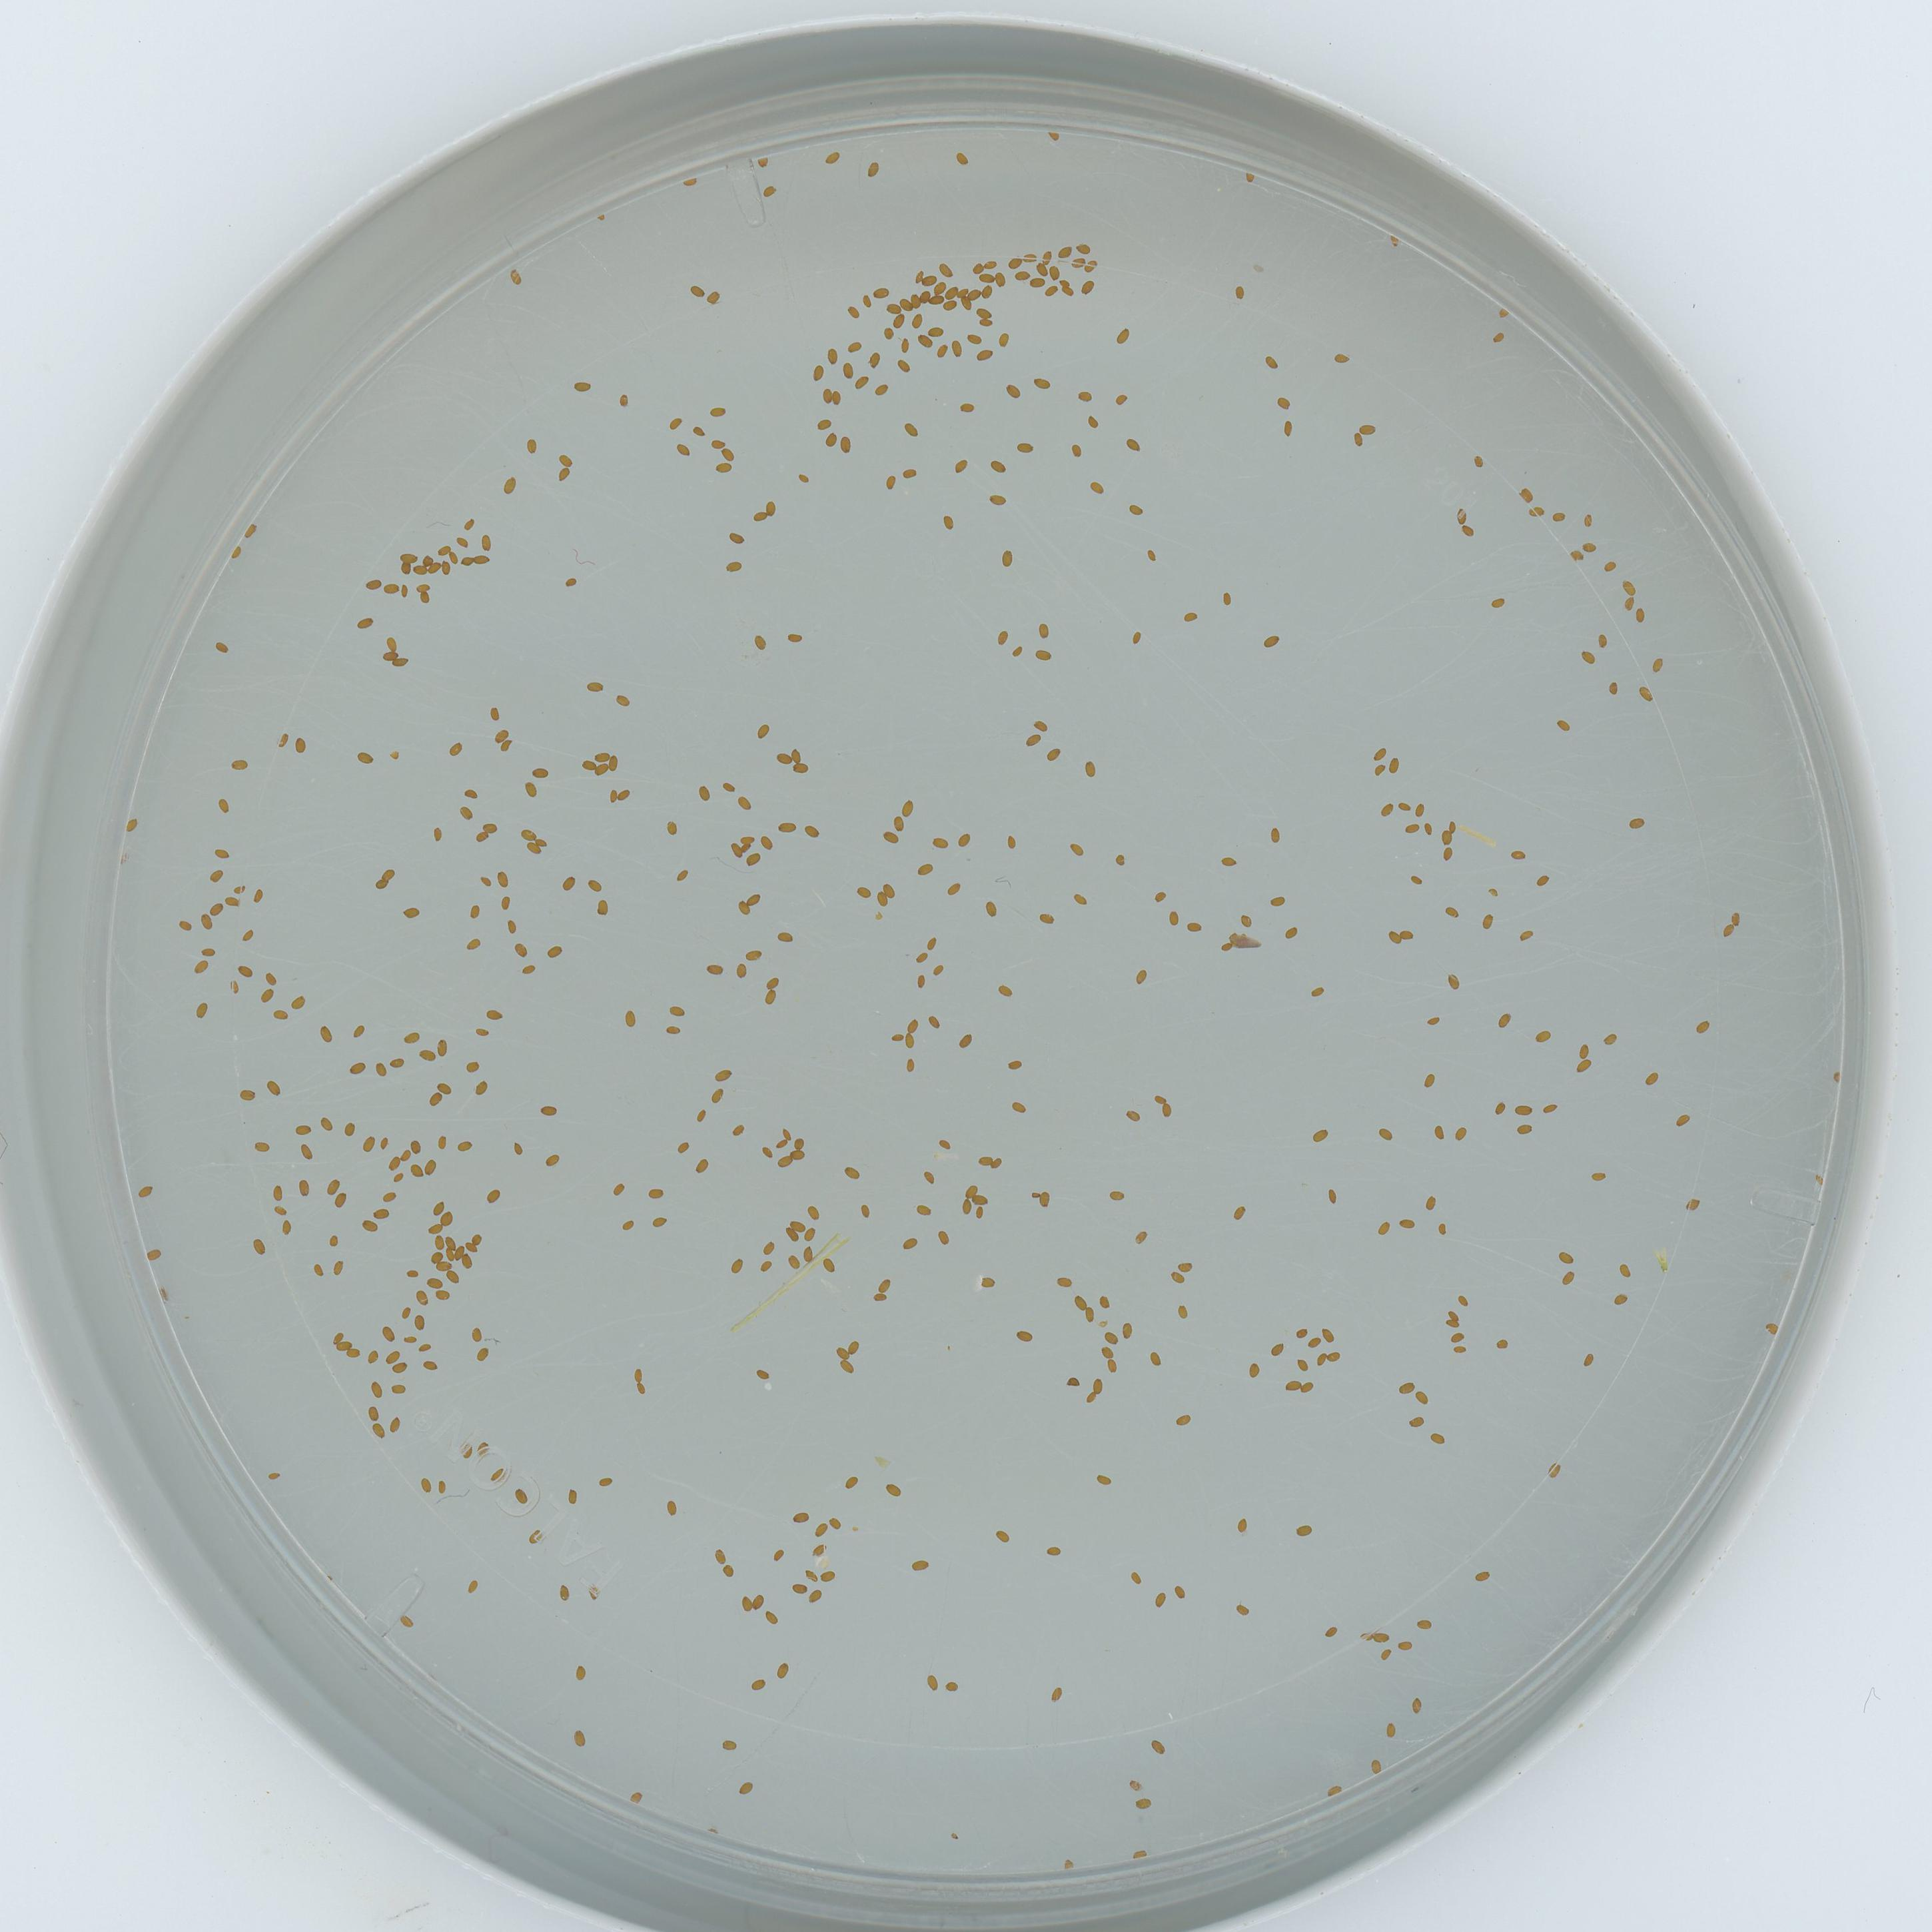seed: (262, 1076, 283, 1095), (1116, 1320, 1136, 1341), (936, 1226, 954, 1249), (295, 1141, 317, 1159), (518, 824, 538, 842), (872, 281, 892, 299), (478, 534, 497, 552), (695, 784, 715, 801), (494, 870, 513, 888), (586, 678, 605, 695), (954, 150, 971, 170), (801, 823, 821, 840), (294, 1178, 313, 1196), (433, 1039, 453, 1056), (709, 1085, 727, 1104), (315, 1026, 334, 1044), (1079, 759, 1099, 777), (1449, 508, 1468, 525), (1261, 632, 1281, 649), (1030, 373, 1049, 391), (987, 490, 1007, 508), (1044, 127, 1063, 145), (927, 320, 945, 338), (559, 876, 577, 893), (522, 780, 540, 798), (752, 633, 770, 651), (356, 748, 373, 766), (212, 639, 230, 656), (777, 927, 794, 945), (901, 800, 918, 817), (481, 817, 499, 835), (840, 363, 858, 380), (902, 419, 920, 437), (867, 350, 885, 368), (725, 557, 743, 575), (846, 338, 863, 356), (290, 736, 308, 754), (810, 363, 828, 380), (837, 435, 855, 453), (501, 476, 518, 494), (755, 722, 773, 740), (366, 1378, 384, 1396), (349, 1058, 366, 1076), (485, 1185, 502, 1203), (379, 1323, 396, 1341), (364, 1403, 382, 1421), (715, 1063, 732, 1081), (387, 1051, 405, 1069), (621, 1008, 639, 1026), (359, 1134, 377, 1152), (421, 1159, 439, 1177), (846, 1162, 863, 1180), (821, 1254, 839, 1272), (1016, 439, 1033, 456), (982, 899, 1000, 916), (989, 456, 1007, 474), (1518, 485, 1536, 502), (1479, 911, 1497, 929), (1293, 1520, 1311, 1537), (1398, 1378, 1415, 1396), (1557, 1247, 1575, 1265), (1398, 1214, 1415, 1231), (1008, 1097, 1026, 1115), (957, 1031, 975, 1049), (272, 732, 290, 750), (531, 764, 550, 780), (464, 934, 483, 950), (418, 1046, 437, 1062), (793, 1509, 812, 1525), (402, 1026, 421, 1042), (414, 1286, 430, 1306), (288, 993, 308, 1008), (885, 1481, 904, 1497), (975, 347, 994, 363), (1281, 924, 1300, 939), (955, 400, 975, 416), (1445, 973, 1461, 993), (1150, 1737, 1166, 1757), (801, 1244, 816, 1265), (1026, 274, 1047, 288), (961, 1196, 975, 1217), (931, 837, 948, 853), (249, 888, 265, 906), (212, 798, 230, 814), (502, 918, 520, 934), (586, 878, 603, 893), (402, 904, 419, 920), (789, 747, 805, 764), (734, 901, 752, 916), (909, 313, 927, 329), (223, 893, 241, 909), (196, 913, 214, 929), (890, 816, 908, 832), (465, 902, 483, 918), (573, 377, 591, 393), (495, 895, 513, 911), (747, 892, 764, 908), (594, 899, 610, 916), (230, 754, 246, 771), (709, 435, 727, 451), (557, 451, 575, 467), (207, 901, 225, 916), (736, 796, 754, 812), (729, 529, 747, 545), (237, 925, 255, 941), (936, 262, 954, 278), (508, 267, 524, 285), (778, 819, 796, 835), (207, 869, 225, 885), (939, 513, 955, 531), (775, 750, 793, 766), (428, 826, 446, 842), (948, 338, 964, 356), (511, 941, 529, 957), (474, 874, 492, 890), (667, 414, 685, 430), (867, 159, 883, 177), (883, 474, 899, 492), (715, 458, 732, 474), (916, 862, 934, 878), (793, 761, 810, 777), (200, 943, 218, 959), (901, 1233, 918, 1249), (911, 1557, 929, 1573), (556, 1583, 573, 1599), (663, 1500, 681, 1516), (294, 1120, 311, 1136), (803, 1226, 821, 1242), (920, 1168, 938, 1184), (464, 1058, 481, 1074), (253, 1136, 271, 1152), (389, 1380, 407, 1396), (370, 1422, 386, 1440), (540, 1100, 557, 1116), (386, 1415, 402, 1433), (847, 1338, 863, 1355), (372, 1203, 389, 1219), (409, 1136, 426, 1152), (511, 1488, 529, 1504), (324, 1231, 341, 1247), (380, 1187, 398, 1203), (775, 1661, 791, 1679), (669, 1001, 686, 1017), (249, 1238, 267, 1254), (278, 1219, 294, 1237), (322, 1178, 340, 1194), (258, 985, 276, 1001), (876, 1276, 893, 1292), (665, 1021, 683, 1037), (331, 1192, 349, 1208), (361, 1217, 379, 1233), (812, 1522, 830, 1537), (651, 1212, 669, 1228), (472, 1079, 490, 1095), (421, 1357, 439, 1373), (428, 1201, 446, 1217), (694, 1155, 709, 1173), (269, 1184, 287, 1200), (571, 1665, 589, 1681), (839, 1359, 856, 1375), (803, 1566, 821, 1582), (329, 1260, 347, 1276), (786, 1226, 803, 1242), (674, 1139, 692, 1155), (433, 1288, 451, 1304), (487, 1465, 504, 1481), (1012, 267, 1030, 283), (1033, 648, 1051, 663), (994, 630, 1012, 646), (1033, 623, 1051, 639), (1123, 435, 1141, 451), (1619, 579, 1637, 594), (998, 550, 1016, 566), (1580, 648, 1598, 663), (1003, 382, 1021, 398), (1261, 354, 1279, 370), (1070, 892, 1088, 908), (1067, 255, 1085, 271), (1594, 633, 1612, 649), (1403, 823, 1421, 839), (1024, 732, 1040, 750), (1042, 747, 1060, 763), (1065, 442, 1083, 458), (1605, 679, 1622, 695), (1001, 835, 1019, 851), (1113, 327, 1131, 343), (1628, 814, 1645, 830), (1633, 607, 1651, 623), (1637, 685, 1654, 701), (1514, 1100, 1532, 1116), (1053, 1272, 1070, 1288), (1514, 1120, 1532, 1136), (1320, 1327, 1338, 1343), (1244, 1362, 1261, 1378), (1576, 1044, 1594, 1060), (1421, 1194, 1438, 1210), (1474, 1568, 1491, 1583), (1644, 1069, 1661, 1085), (1576, 1056, 1594, 1072), (1005, 1054, 1023, 1070), (1495, 1012, 1513, 1028), (1173, 1302, 1191, 1318), (1150, 1592, 1168, 1608), (1283, 1376, 1300, 1392), (1108, 1185, 1125, 1201), (1122, 1106, 1139, 1122), (1408, 1414, 1426, 1430), (1373, 1629, 1391, 1645), (1614, 1290, 1629, 1307), (1601, 1028, 1619, 1044), (1534, 1026, 1552, 1042), (1375, 1219, 1392, 1235), (1382, 1721, 1399, 1737), (1230, 1203, 1247, 1219), (1293, 1355, 1311, 1371), (1412, 1389, 1430, 1405), (1311, 1125, 1329, 1141), (1016, 1325, 1033, 1341), (1173, 1410, 1191, 1426), (1355, 1629, 1373, 1645), (1127, 1778, 1145, 1794), (587, 1583, 605, 1599), (460, 1254, 478, 1270), (1810, 1173, 1828, 1189), (915, 334, 934, 349), (545, 943, 564, 957), (458, 807, 478, 821), (704, 961, 724, 975), (787, 1219, 807, 1233), (1488, 596, 1507, 610), (364, 575, 380, 591), (692, 423, 708, 439), (874, 380, 890, 396), (706, 287, 722, 303), (690, 281, 706, 297), (663, 821, 679, 837), (212, 846, 228, 862), (826, 349, 842, 364), (594, 748, 610, 764), (462, 786, 478, 801), (895, 359, 911, 375), (524, 437, 540, 453), (382, 580, 398, 596), (947, 881, 962, 897), (855, 373, 870, 389), (729, 842, 745, 858), (874, 892, 890, 908), (883, 883, 899, 899), (676, 442, 692, 458), (817, 416, 833, 432), (787, 630, 803, 646), (448, 741, 464, 757), (757, 154, 773, 170), (823, 432, 839, 448), (899, 338, 915, 354), (950, 458, 966, 474), (607, 755, 623, 771), (745, 853, 761, 869), (460, 515, 476, 531), (241, 524, 257, 540), (391, 1361, 407, 1376), (262, 970, 278, 985), (916, 1201, 932, 1217), (722, 1737, 738, 1753), (410, 1315, 426, 1330), (310, 1261, 326, 1277), (456, 1136, 472, 1152), (904, 1016, 920, 1031), (396, 1302, 412, 1318), (844, 1474, 860, 1490), (694, 1106, 709, 1122), (858, 1201, 874, 1217), (755, 1366, 771, 1382), (373, 1060, 389, 1076), (416, 1477, 432, 1493), (318, 1115, 334, 1131), (713, 1548, 729, 1564), (564, 1488, 580, 1504), (193, 1001, 209, 1017), (807, 1203, 823, 1219), (810, 1541, 826, 1557), (426, 1090, 442, 1106), (384, 1346, 400, 1362), (648, 1184, 663, 1200), (771, 1546, 787, 1562), (350, 1021, 366, 1037), (364, 1348, 380, 1364), (433, 1134, 449, 1150), (761, 1238, 777, 1254), (809, 1587, 824, 1603), (902, 1056, 918, 1072), (437, 1079, 453, 1095), (598, 1474, 614, 1490), (729, 1256, 745, 1272), (936, 1136, 952, 1152), (458, 1442, 474, 1458), (375, 1134, 391, 1150), (239, 1085, 255, 1100), (943, 1677, 959, 1693), (426, 1219, 442, 1235), (786, 1253, 801, 1269), (752, 1677, 768, 1693), (633, 1380, 649, 1396), (446, 1269, 462, 1284), (465, 1578, 481, 1594), (821, 1568, 837, 1583), (763, 1608, 778, 1624), (398, 1146, 414, 1162), (571, 1730, 587, 1746), (510, 1139, 525, 1155), (734, 962, 750, 978), (630, 1366, 646, 1382), (1088, 479, 1104, 495), (1412, 801, 1428, 817), (1150, 890, 1166, 906), (1056, 242, 1072, 258), (1076, 387, 1092, 403), (1384, 927, 1399, 943), (1067, 842, 1083, 858), (1582, 538, 1598, 554), (1444, 904, 1460, 920), (1378, 803, 1394, 819), (1274, 395, 1290, 410), (966, 331, 982, 347), (993, 272, 1008, 288), (996, 333, 1012, 349), (1269, 893, 1284, 909), (1440, 846, 1456, 862), (1279, 419, 1295, 435), (1552, 508, 1568, 524), (1185, 918, 1201, 934), (1460, 522, 1476, 538), (1568, 547, 1583, 563), (1555, 718, 1571, 734), (1518, 925, 1534, 941), (1127, 501, 1143, 517), (980, 283, 996, 299), (1267, 826, 1283, 842), (1490, 329, 1506, 345), (1008, 644, 1024, 660), (1230, 283, 1246, 299), (1396, 798, 1412, 814), (1217, 591, 1233, 607), (1164, 909, 1180, 925), (1350, 432, 1366, 448), (1033, 262, 1049, 278), (1619, 596, 1635, 612), (1088, 1376, 1104, 1392), (1269, 1341, 1284, 1357), (1591, 1168, 1606, 1184), (996, 982, 1012, 998), (1323, 1187, 1339, 1203), (1233, 1603, 1249, 1619), (1127, 1569, 1143, 1585), (1453, 1125, 1468, 1141), (1422, 1070, 1438, 1086), (1233, 1516, 1249, 1532), (1695, 1017, 1711, 1033), (1495, 1336, 1511, 1352), (1293, 1323, 1309, 1339), (1095, 1293, 1111, 1309), (1617, 1261, 1633, 1277), (1171, 1583, 1187, 1599), (1546, 1461, 1562, 1477), (980, 1272, 996, 1288), (1146, 1350, 1162, 1366), (1178, 1260, 1194, 1276), (1408, 1697, 1424, 1713), (1431, 1123, 1447, 1139), (1132, 1228, 1148, 1244), (1430, 1430, 1445, 1445), (1541, 1099, 1557, 1115), (1376, 1125, 1392, 1141), (1134, 1794, 1150, 1810), (1368, 1757, 1384, 1773), (1104, 1330, 1120, 1346), (1493, 1099, 1509, 1115), (989, 1154, 1005, 1169), (235, 962, 251, 978), (226, 980, 242, 996), (474, 1442, 490, 1458), (529, 1529, 545, 1545), (1327, 1782, 1343, 1798), (913, 269, 929, 285), (1762, 1322, 1778, 1338), (1242, 168, 1258, 184), (901, 465, 918, 479), (356, 616, 373, 630), (674, 869, 692, 883), (720, 780, 738, 794), (380, 867, 398, 881), (492, 729, 510, 743), (382, 635, 400, 649), (718, 446, 736, 460), (372, 878, 389, 892), (862, 292, 876, 310), (846, 304, 863, 318), (472, 552, 490, 566), (230, 543, 244, 561), (485, 1007, 502, 1021), (341, 1122, 359, 1136), (403, 1265, 421, 1279), (398, 1614, 416, 1628), (791, 1582, 809, 1596), (145, 1246, 163, 1260), (793, 1136, 810, 1150), (628, 1790, 646, 1805), (1332, 350, 1350, 364), (1083, 414, 1100, 428), (1407, 874, 1424, 888), (1237, 913, 1254, 927), (1180, 609, 1198, 623), (1578, 513, 1596, 527), (1529, 502, 1546, 517), (1219, 855, 1237, 869), (1042, 283, 1060, 297), (1217, 939, 1235, 954), (1072, 1293, 1086, 1311), (993, 1529, 1010, 1543), (971, 1192, 989, 1207), (1311, 1352, 1329, 1366), (973, 1207, 987, 1224), (1168, 1270, 1185, 1284), (1083, 1306, 1097, 1323), (1037, 1191, 1051, 1208), (1083, 1389, 1097, 1407), (453, 1244, 467, 1261), (899, 294, 911, 313), (175, 918, 191, 932), (883, 832, 899, 846), (856, 885, 872, 899), (941, 299, 957, 313), (487, 706, 502, 720), (924, 934, 939, 948), (556, 467, 571, 481), (892, 313, 908, 327), (709, 405, 725, 419), (759, 835, 775, 849), (754, 510, 770, 524), (826, 150, 842, 165), (617, 786, 632, 801), (472, 832, 488, 846), (616, 694, 632, 708), (605, 787, 619, 803), (446, 548, 460, 564), (881, 327, 897, 341), (796, 471, 812, 485), (764, 501, 780, 515), (616, 393, 632, 407), (934, 343, 948, 359), (435, 541, 451, 556), (524, 840, 540, 855), (396, 561, 412, 575), (418, 591, 433, 605), (458, 554, 474, 568), (957, 833, 971, 849), (752, 1592, 766, 1608), (766, 973, 782, 987), (407, 1162, 423, 1177), (621, 1217, 637, 1231), (426, 1274, 442, 1288), (740, 1596, 754, 1612), (272, 1007, 288, 1021), (441, 1212, 456, 1226), (925, 1674, 939, 1690), (828, 1514, 842, 1530), (389, 1169, 405, 1184), (545, 1152, 561, 1166), (763, 989, 778, 1003), (888, 1028, 904, 1042), (138, 1182, 154, 1196), (759, 1145, 775, 1159), (740, 1780, 755, 1794), (474, 1346, 490, 1361), (902, 1033, 918, 1047), (384, 1155, 400, 1169), (469, 1327, 485, 1341), (731, 1122, 747, 1136), (435, 1479, 449, 1495), (835, 1345, 849, 1361), (872, 1292, 888, 1306), (272, 1203, 288, 1217), (775, 1138, 791, 1152), (610, 1180, 626, 1194), (720, 1564, 736, 1578), (759, 1258, 775, 1272), (777, 1155, 793, 1169), (329, 1332, 343, 1348), (416, 1339, 432, 1353), (430, 1235, 446, 1249), (1536, 874, 1552, 888), (1387, 759, 1401, 775), (1603, 559, 1619, 573), (1007, 255, 1023, 269), (971, 260, 985, 276), (1113, 391, 1129, 405), (1401, 925, 1415, 941), (1371, 747, 1385, 763), (1359, 421, 1375, 435), (1509, 847, 1525, 862), (1031, 717, 1047, 731), (1079, 280, 1095, 294), (1421, 821, 1435, 837), (982, 255, 998, 269), (1129, 630, 1143, 646), (1039, 909, 1054, 924), (1470, 453, 1486, 467), (1721, 924, 1737, 938), (1649, 658, 1665, 672), (1371, 763, 1385, 778), (1111, 853, 1125, 869), (1445, 819, 1461, 833), (1063, 1373, 1079, 1387), (1415, 1617, 1431, 1631), (1322, 1624, 1338, 1638), (1044, 1543, 1060, 1557), (1449, 1329, 1465, 1343), (1560, 1270, 1576, 1284), (1157, 1102, 1173, 1116), (1047, 1686, 1063, 1700), (1582, 1352, 1598, 1366), (1300, 1378, 1316, 1392), (1396, 1638, 1412, 1652), (1093, 1472, 1109, 1486), (1327, 1348, 1341, 1364), (1104, 1359, 1120, 1373), (1097, 1345, 1113, 1359), (1451, 1343, 1467, 1357), (1304, 1334, 1320, 1348), (1376, 1647, 1392, 1661), (1424, 1012, 1440, 1026), (1433, 1221, 1449, 1235), (1132, 970, 1148, 984), (1675, 1111, 1691, 1125), (1134, 1847, 1148, 1863), (1453, 1293, 1468, 1307), (1684, 1196, 1700, 1210), (681, 175, 695, 191), (1143, 548, 1159, 563), (1085, 260, 1100, 274), (1060, 1856, 1076, 1870), (1497, 306, 1513, 320), (1387, 234, 1403, 248), (267, 1470, 283, 1484), (403, 1330, 419, 1345), (391, 656, 409, 669), (885, 301, 902, 313), (922, 274, 939, 287), (193, 961, 211, 973), (1074, 241, 1092, 253), (1046, 264, 1058, 281), (1445, 1318, 1463, 1330), (911, 294, 924, 311), (915, 950, 929, 964), (456, 534, 471, 548), (763, 184, 777, 198), (398, 586, 412, 600), (594, 764, 609, 778), (412, 563, 426, 577), (499, 740, 513, 754), (124, 817, 138, 832), (927, 1014, 941, 1028), (474, 1024, 488, 1039), (347, 1346, 361, 1361), (913, 973, 927, 987), (780, 1125, 794, 1139), (1039, 249, 1053, 264), (1729, 911, 1743, 925), (1060, 274, 1074, 288), (1309, 984, 1323, 998), (977, 1152, 991, 1166), (1445, 1307, 1460, 1322), (444, 1237, 458, 1251), (580, 759, 596, 771), (563, 577, 579, 589), (740, 832, 755, 844), (400, 548, 416, 561), (379, 649, 395, 662), (534, 835, 550, 847), (819, 387, 832, 403), (947, 283, 959, 299), (832, 389, 844, 405), (336, 1339, 352, 1352), (428, 1251, 444, 1263), (791, 1148, 807, 1161), (977, 317, 993, 329), (1438, 832, 1454, 844), (966, 288, 982, 301), (1223, 931, 1238, 943), (1152, 1093, 1168, 1106), (959, 297, 975, 310), (232, 883, 248, 895), (745, 950, 763, 961), (975, 308, 993, 318), (978, 272, 996, 283), (920, 290, 932, 304), (416, 579, 430, 591), (931, 294, 945, 306), (426, 564, 441, 577), (471, 1233, 485, 1246), (437, 1261, 451, 1274), (1023, 251, 1037, 264), (964, 1184, 977, 1198), (738, 842, 752, 855), (957, 287, 971, 299), (1831, 1069, 1844, 1083), (446, 1247, 456, 1263), (520, 966, 536, 977), (1488, 883, 1499, 899), (441, 561, 451, 575), (1060, 287, 1074, 297), (465, 1242, 479, 1253), (423, 554, 433, 564), (931, 966, 943, 975)
